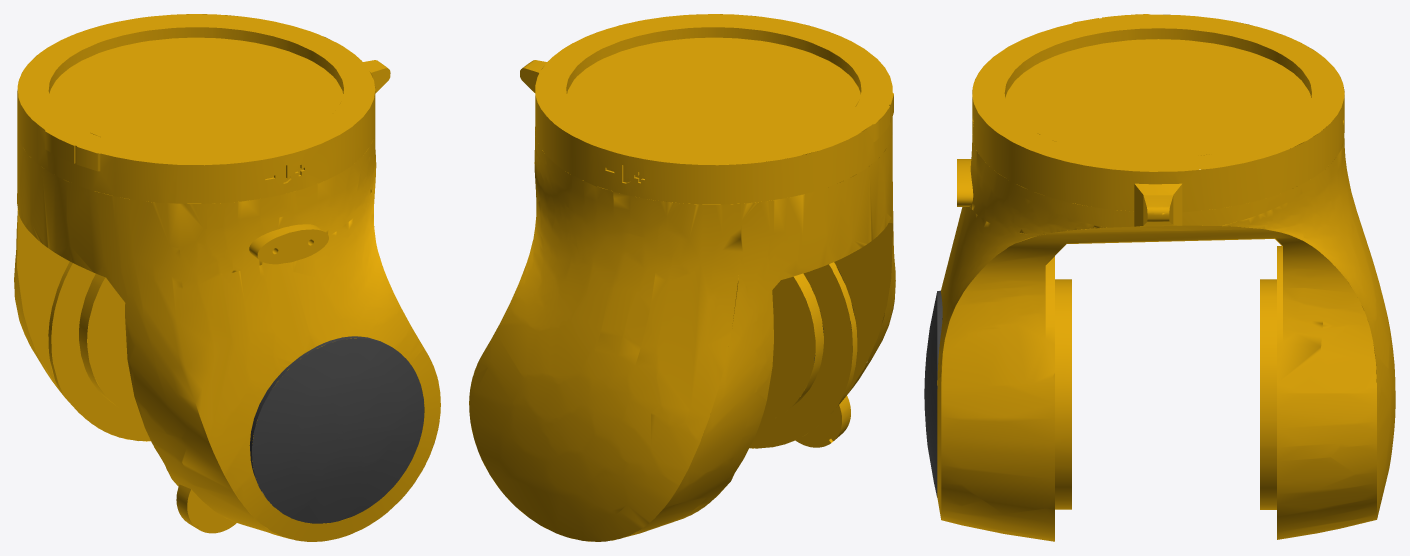
3 views of the same model, side by side, from view 1: azimuth 30°, elevation 25°; view 2: azimuth 150°, elevation 25°; view 3: azimuth 270°, elevation 25° (orthographic). The views are drawn at different scales.
Visible parts, largest first — view 1: KR6R900_sixx_Link1; view 2: KR6R900_sixx_Link1; view 3: KR6R900_sixx_Link1.
Boxes of the visible parts, x1,y1,x2,y2 form: KR6R900_sixx_Link1: [14, 14, 440, 541]; KR6R900_sixx_Link1: [469, 14, 895, 541]; KR6R900_sixx_Link1: [924, 14, 1395, 541].
Bounding box in the file's own units: 0.2428 × 0.2758 × 0.2693.
